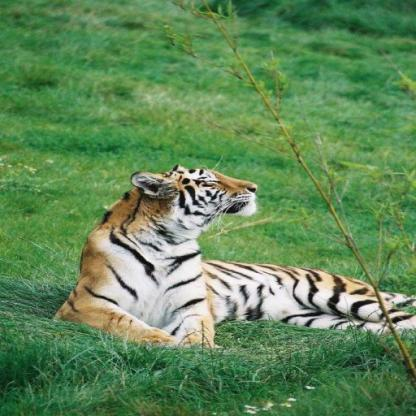Tiger: (49, 117, 415, 368)
